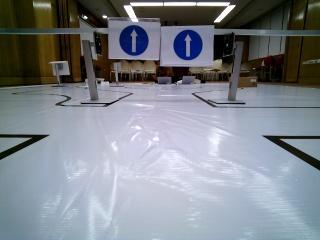straight: (109, 17, 160, 60), (161, 26, 214, 67)
